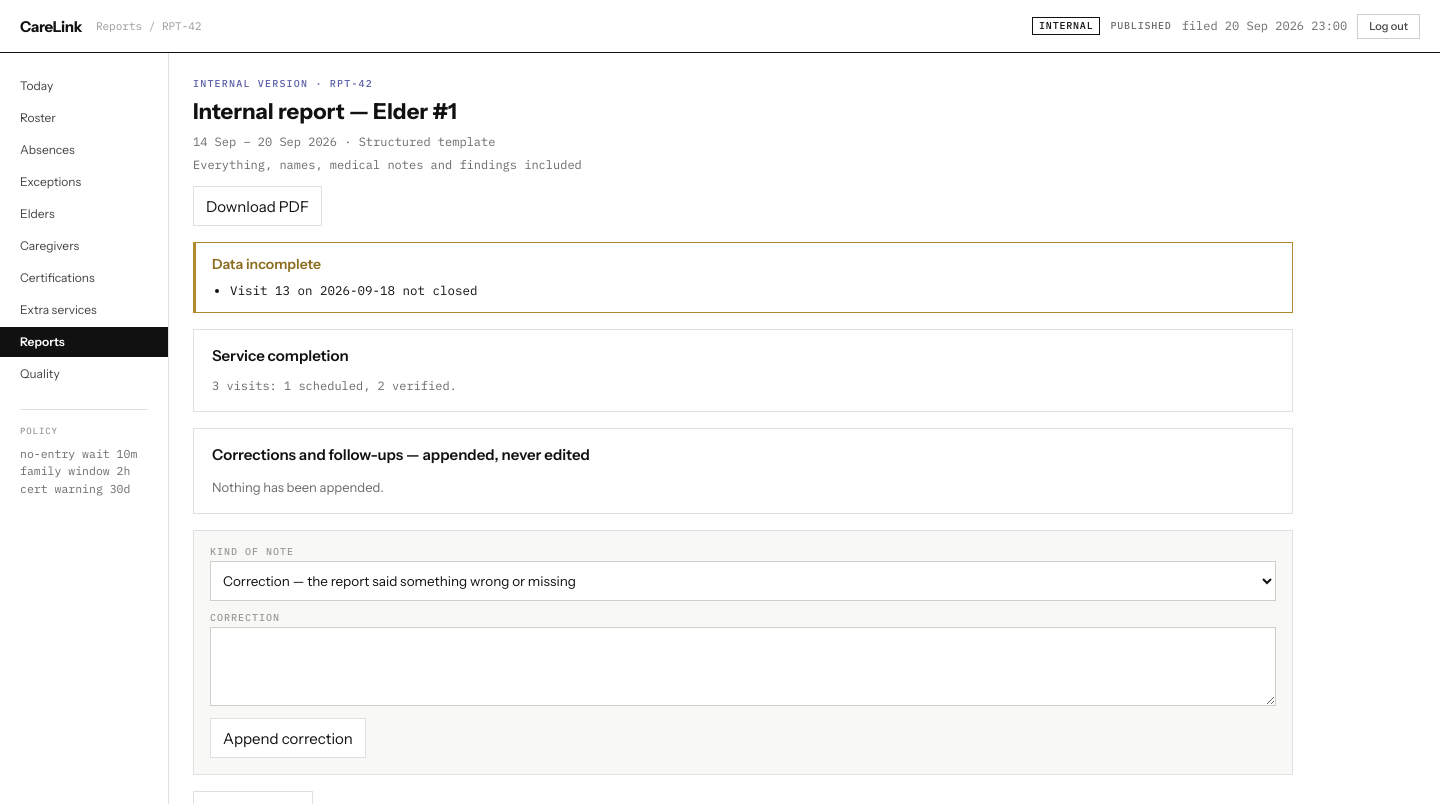
Scenario: says why the PDF could not be made and leaves the report on screen
The width and height of the screenshot is (1440, 804).
Expected: the heading "Internal report — Elder #1" is shown, 193,98 -> 457,125
Click the button "Download PDF". click: [257, 206]
box: 193,186 -> 322,226
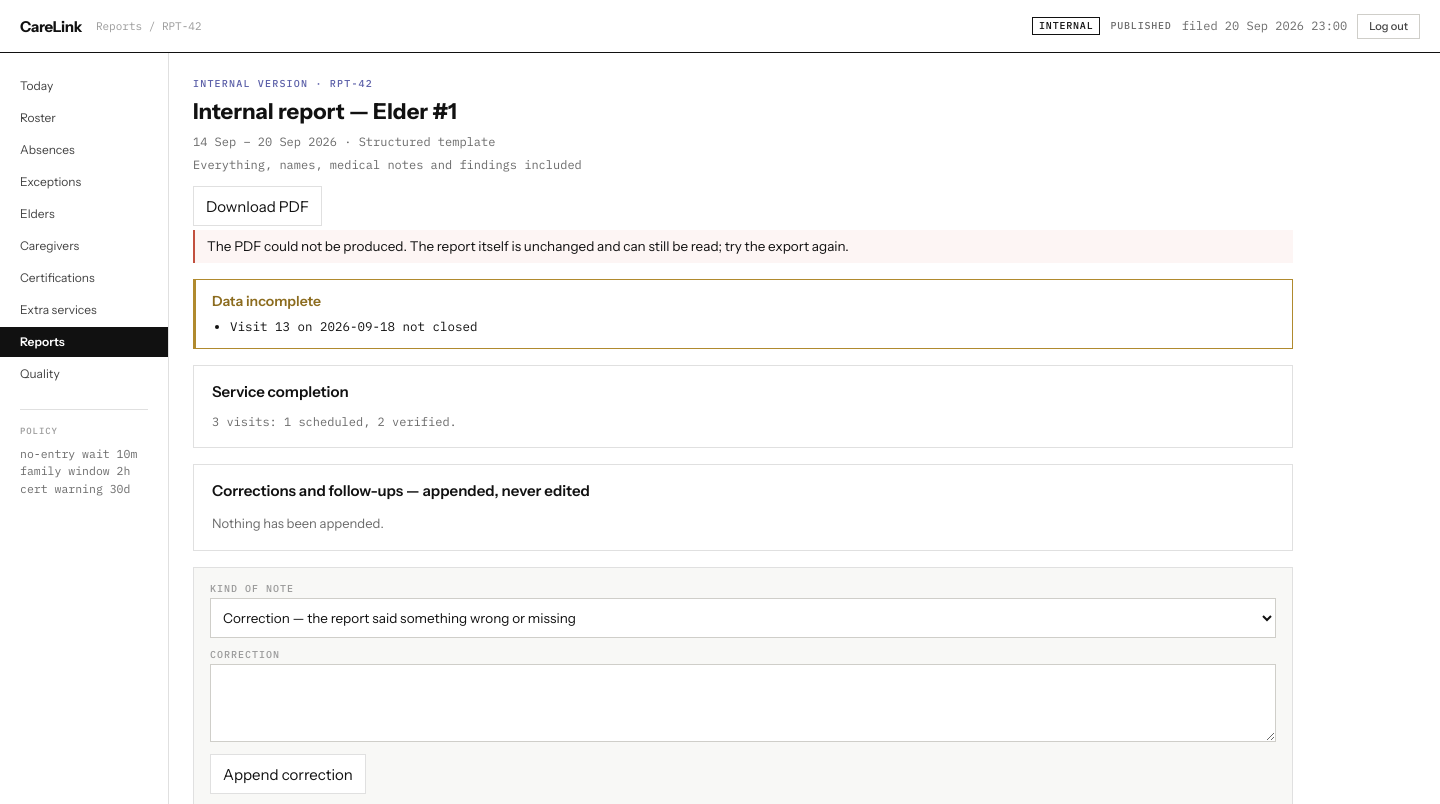
Expected: the element "Service completion" is shown, 193,365 -> 1293,448
Expected: the message shows "The report itself is unchanged", 207,238 -> 849,254
